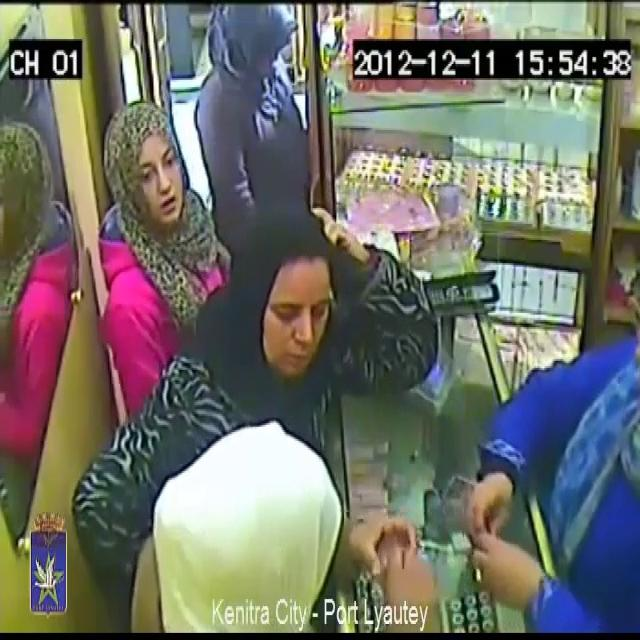Product: (376, 540, 424, 604)
normal: (458, 248, 640, 640), (246, 195, 378, 412), (104, 93, 220, 308), (204, 0, 304, 188)
shoplifting: (121, 372, 401, 640)
